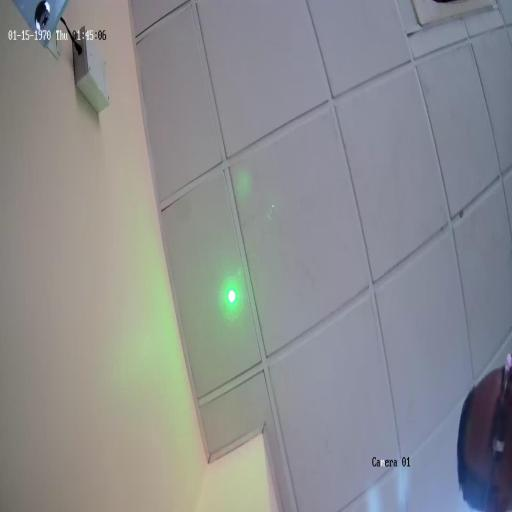laser: (224, 285, 238, 308)
